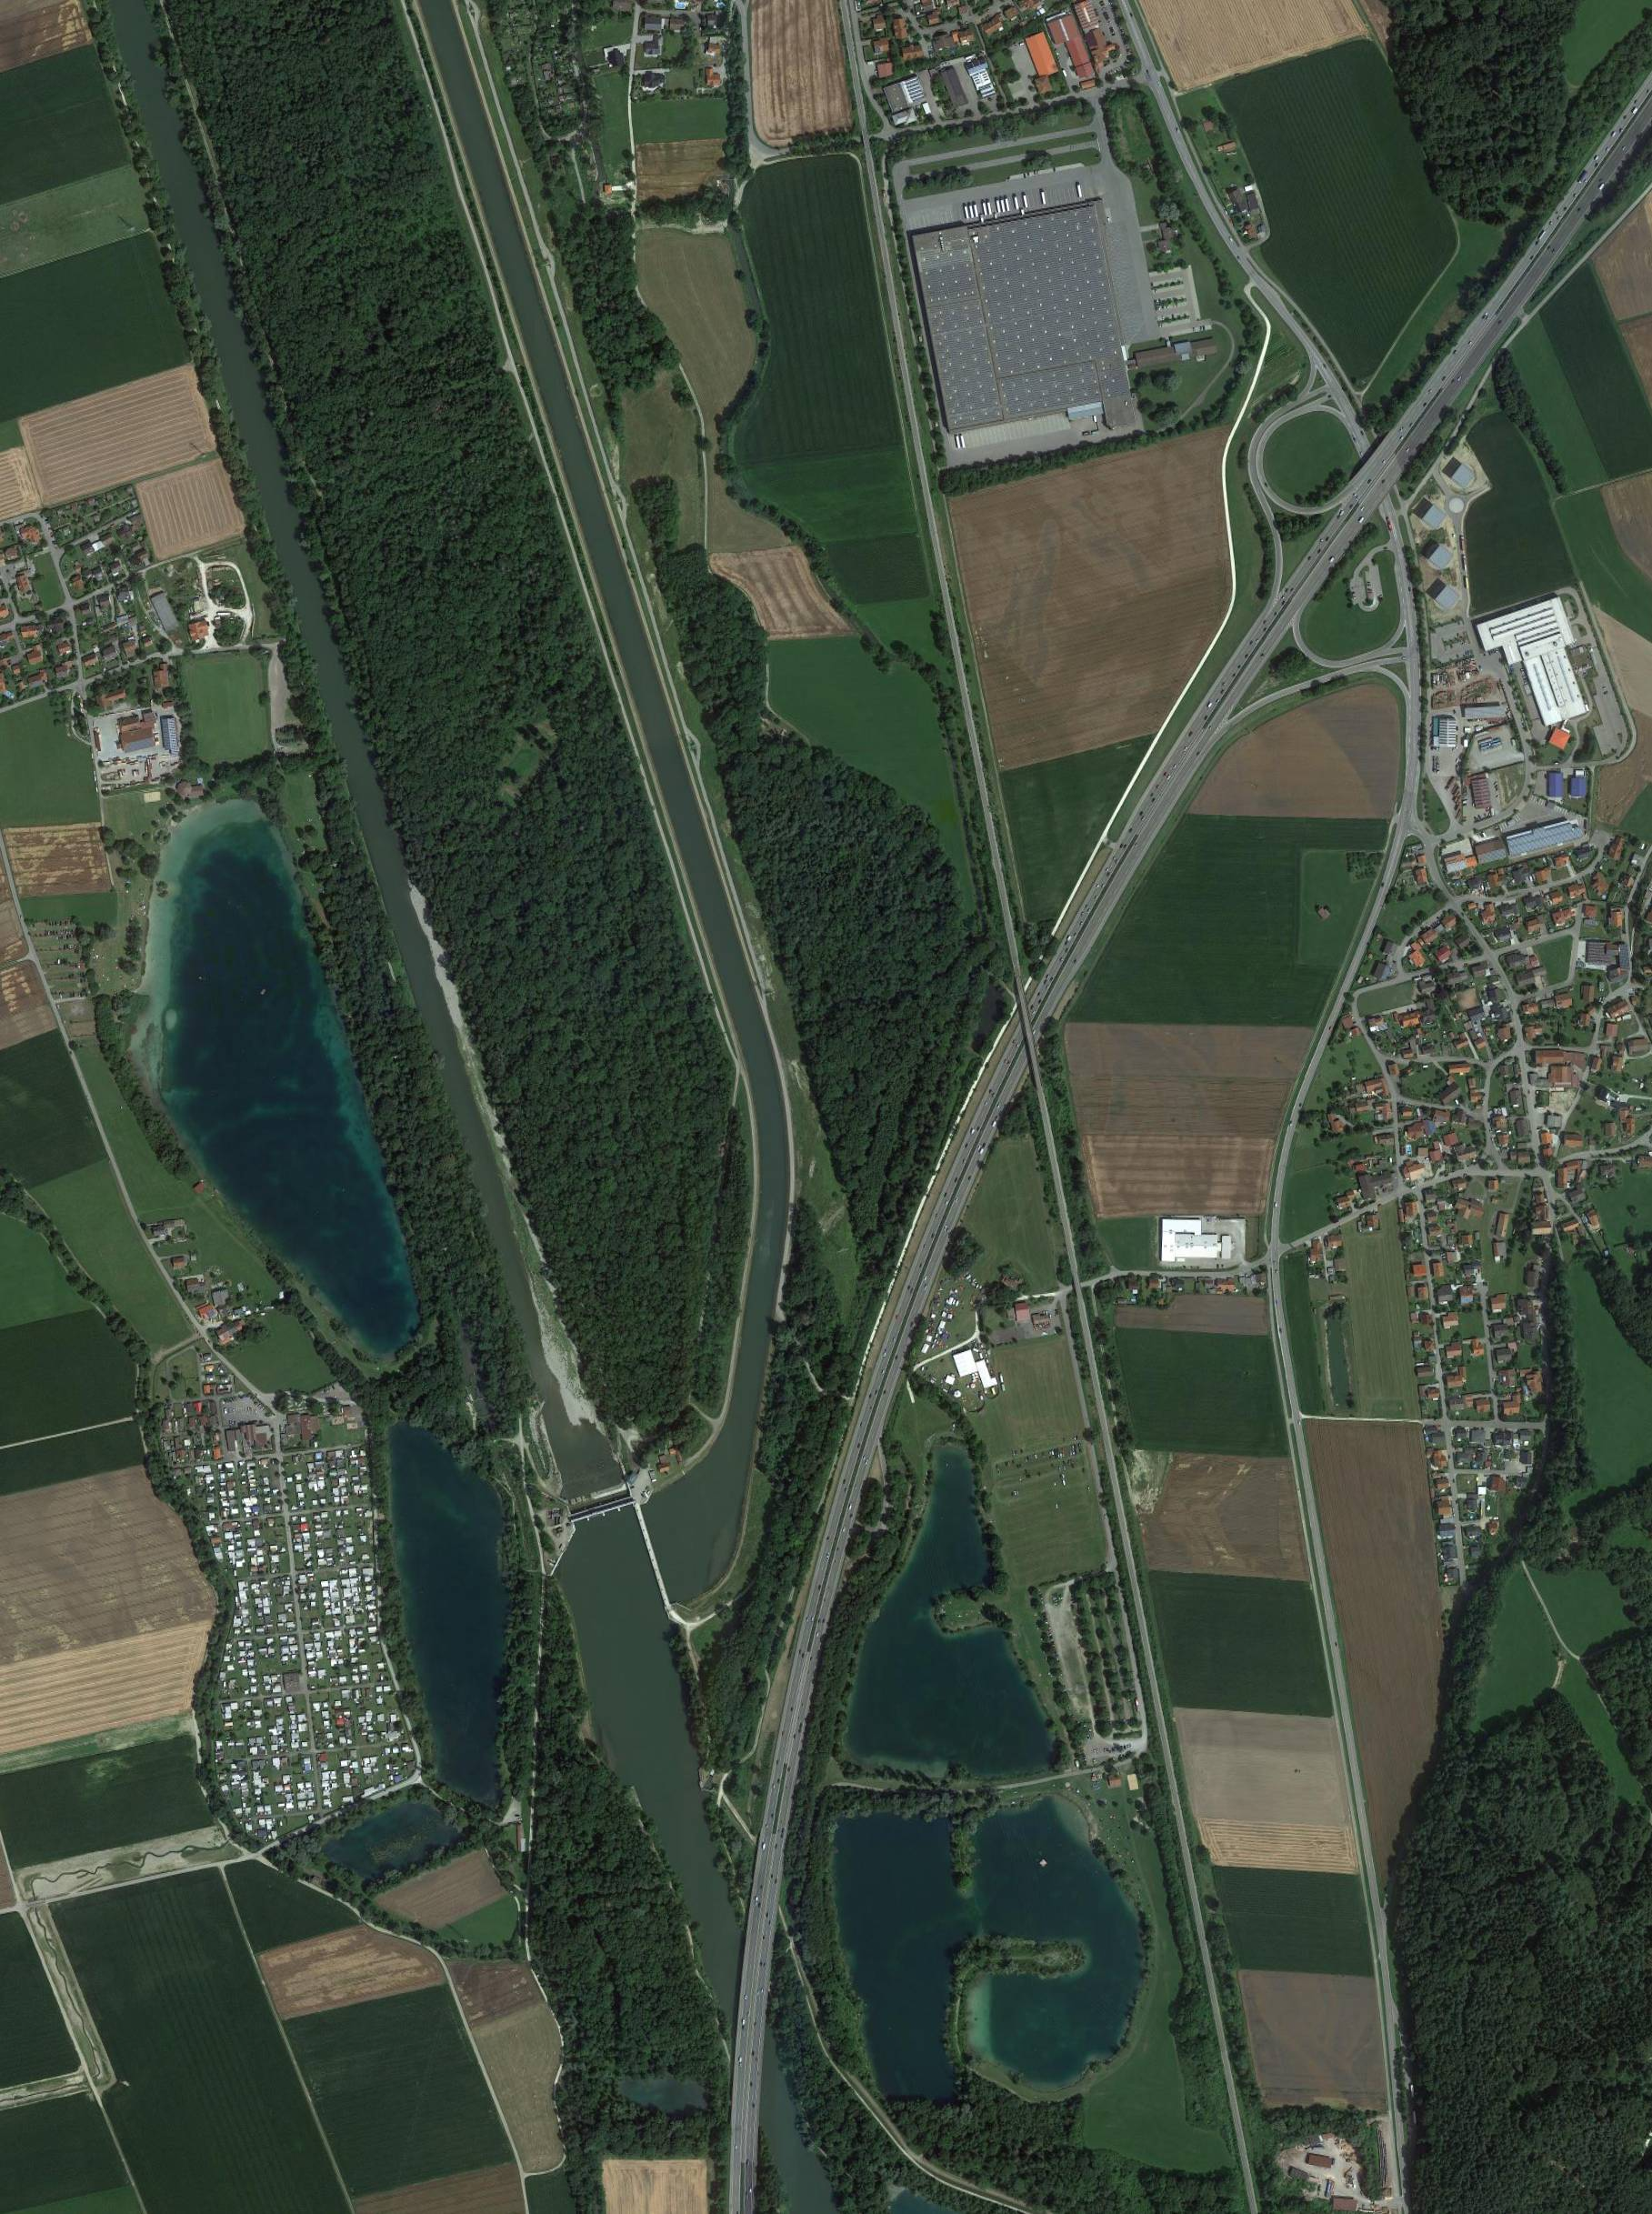bridge: (727, 1936, 776, 2117)
